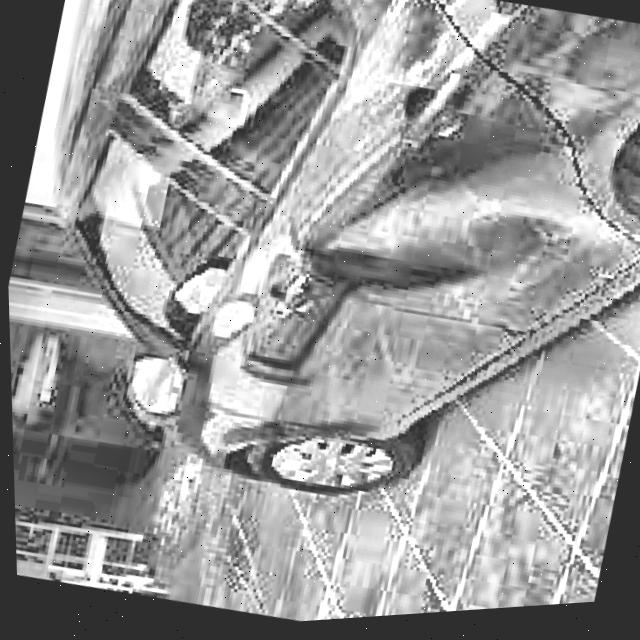door_dent: (305, 157, 574, 334)
